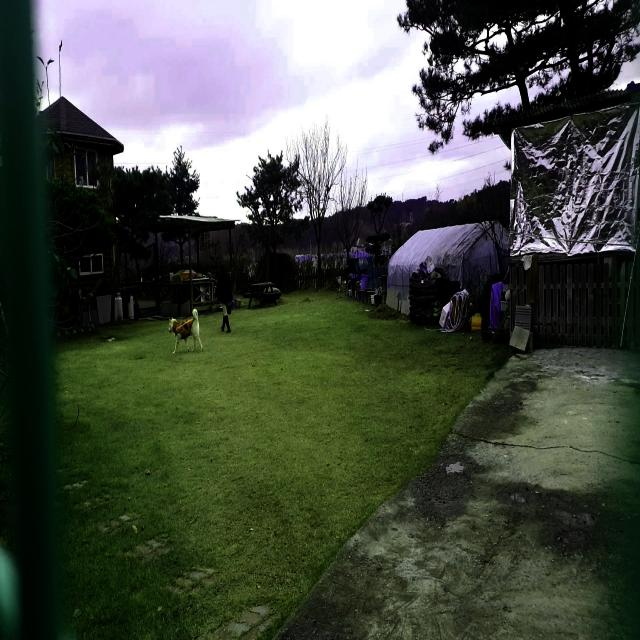Unleashed_Dog: (168, 290, 232, 355)
